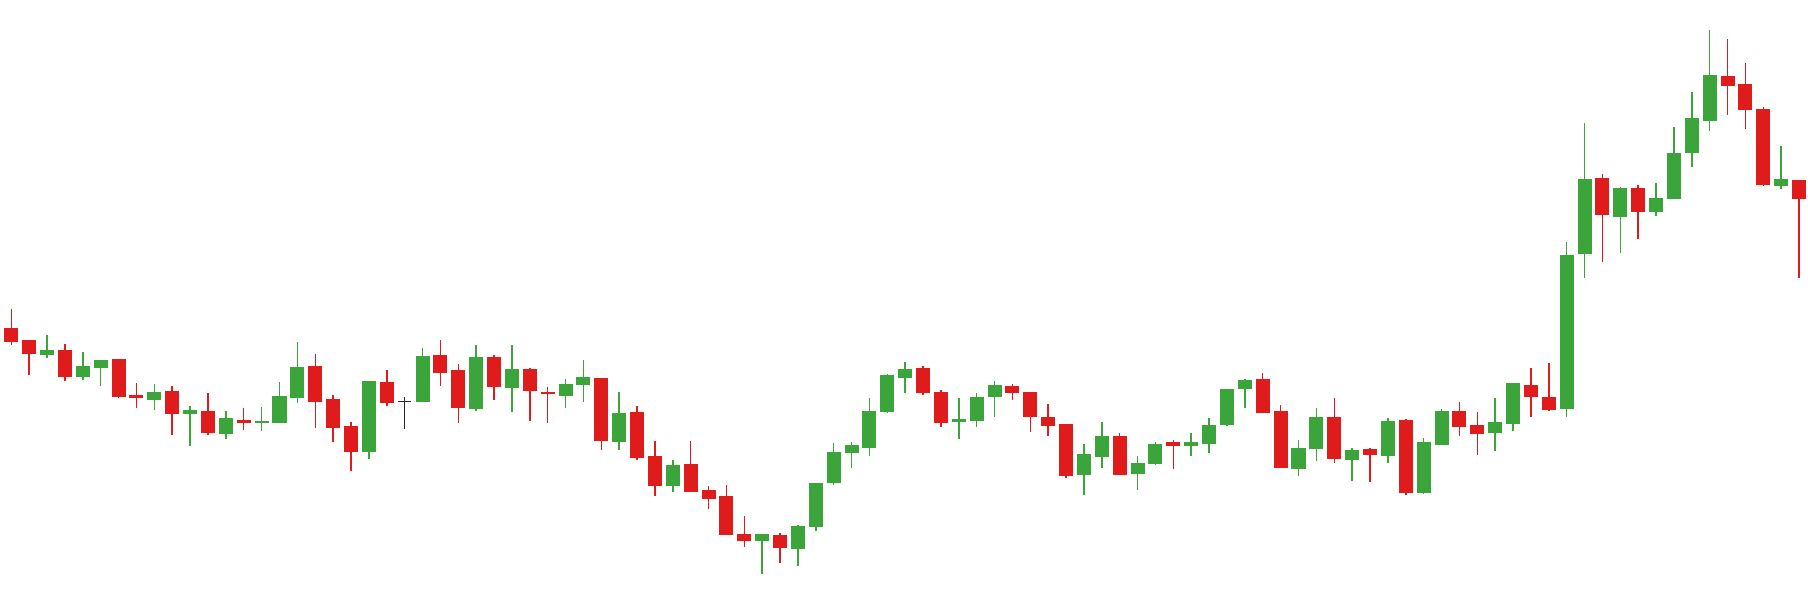buy: (241, 374, 379, 474)
